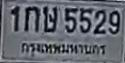1: (10, 5, 19, 30)
2: (93, 9, 105, 33)
5: (64, 7, 77, 32), (79, 7, 92, 32)
9: (108, 10, 120, 35)
A01: (24, 5, 38, 31)
A39: (42, 5, 56, 32)
BKK: (19, 39, 108, 58)
